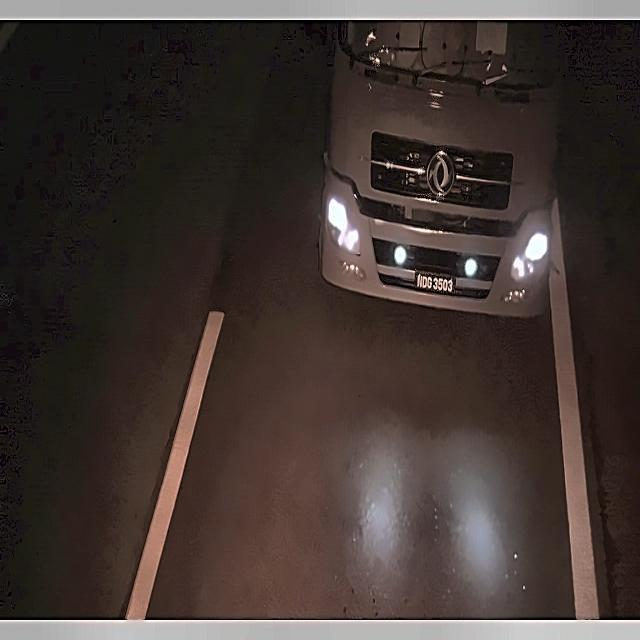car: (412, 269, 458, 300)
